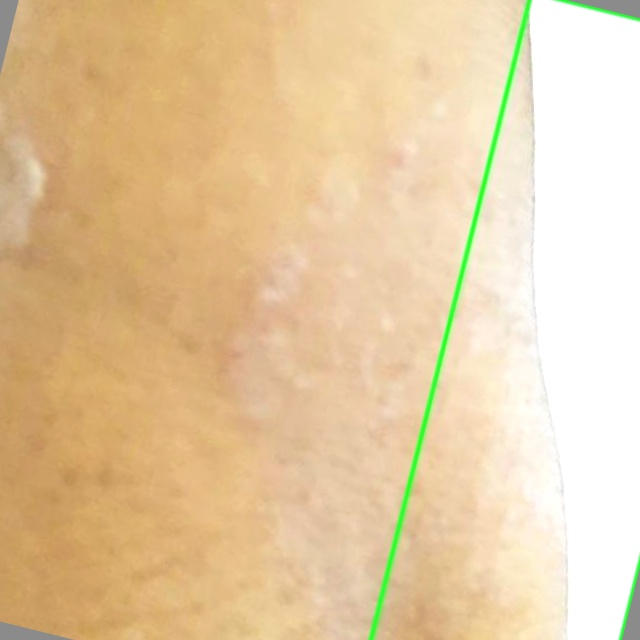Tinea Corporis: (371, 0, 639, 639)
